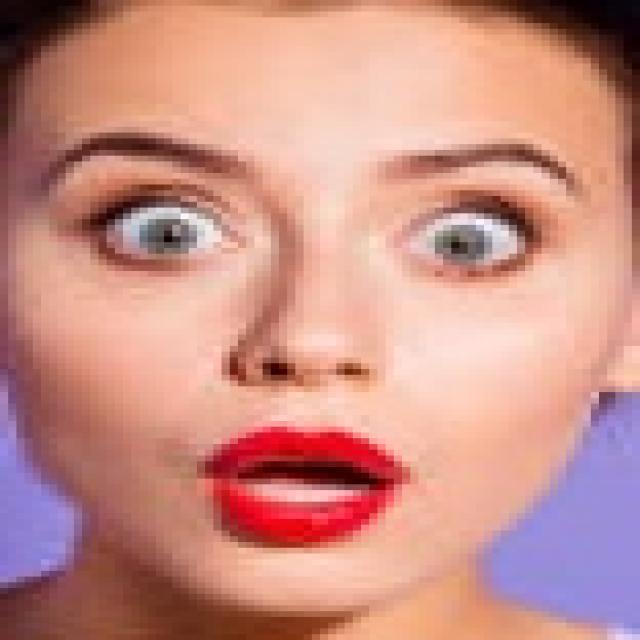Anxiety: (0, 2, 632, 614)
